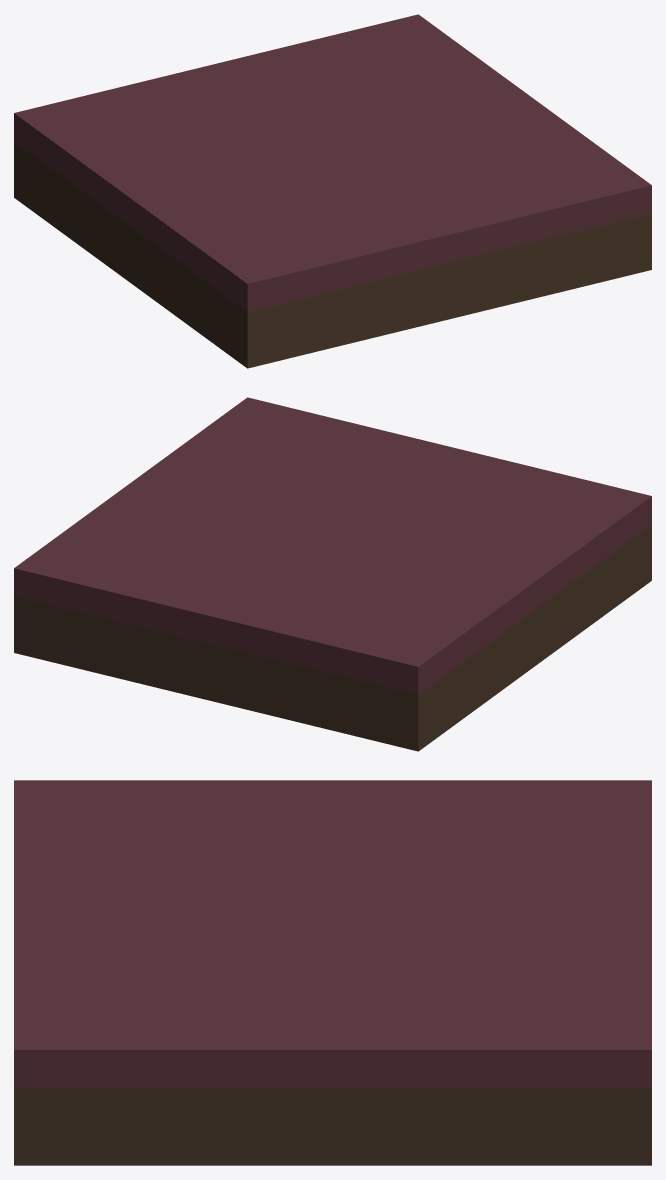
File: tiles-tile-runway-turn.glb
3 views of the same model, one above another, from view 1: azimuth 30°, elevation 25°; view 2: azimuth 150°, elevation 25°; view 3: azimuth 270°, elevation 25° (orthographic). The views are drawn at different scales.
Visible parts, largest first — view 1: tile-runway-turn; view 2: tile-runway-turn; view 3: tile-runway-turn.
Part boxes in pixels (x1=…): tile-runway-turn: x1=14, y1=14, x2=651, y2=368; tile-runway-turn: x1=14, y1=397, x2=651, y2=751; tile-runway-turn: x1=14, y1=780, x2=651, y2=1165.
Size of the model in its own units: 30 by 6 by 30.
